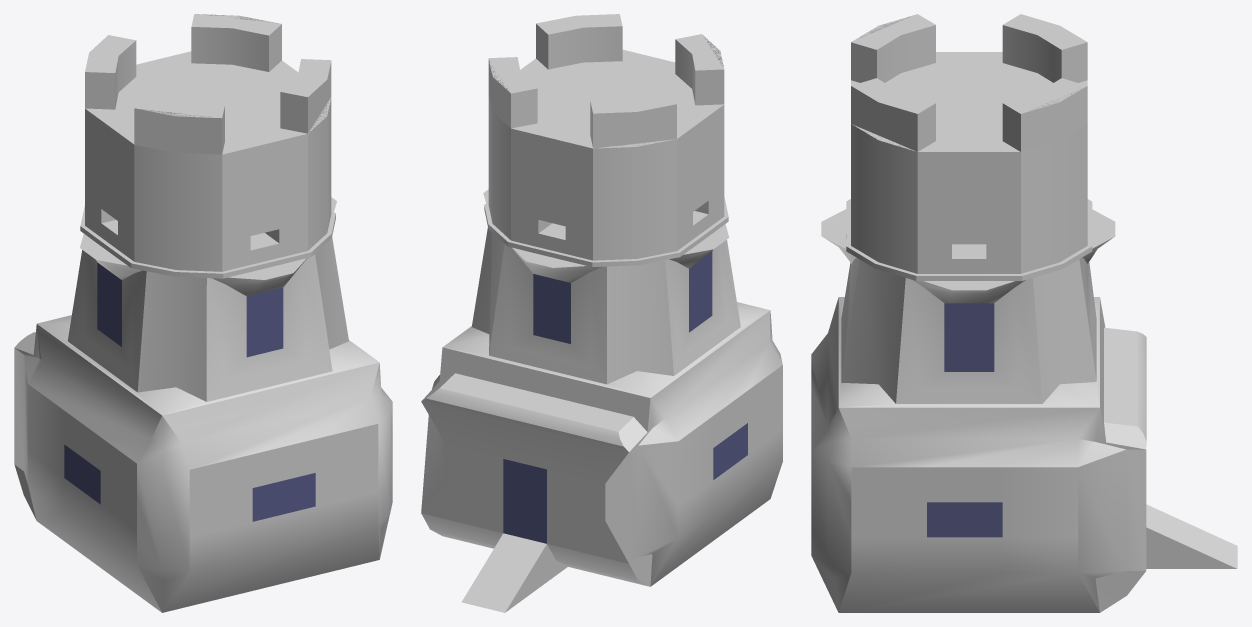
3 renders of one model, left to right at view 1: azimuth 30°, elevation 25°; view 2: azimuth 150°, elevation 25°; view 3: azimuth 270°, elevation 25°, orthographic. The views are drawn at different scales.
Visible parts, largest first — view 1: Cube.001; view 2: Cube.001; view 3: Cube.001.
Boxes of the visible parts, <box> form: Cube.001: <box>14,14,392,612</box>; Cube.001: <box>421,14,782,612</box>; Cube.001: <box>811,14,1237,612</box>.
Bounding box in the file's own units: 173 × 308 × 241.
